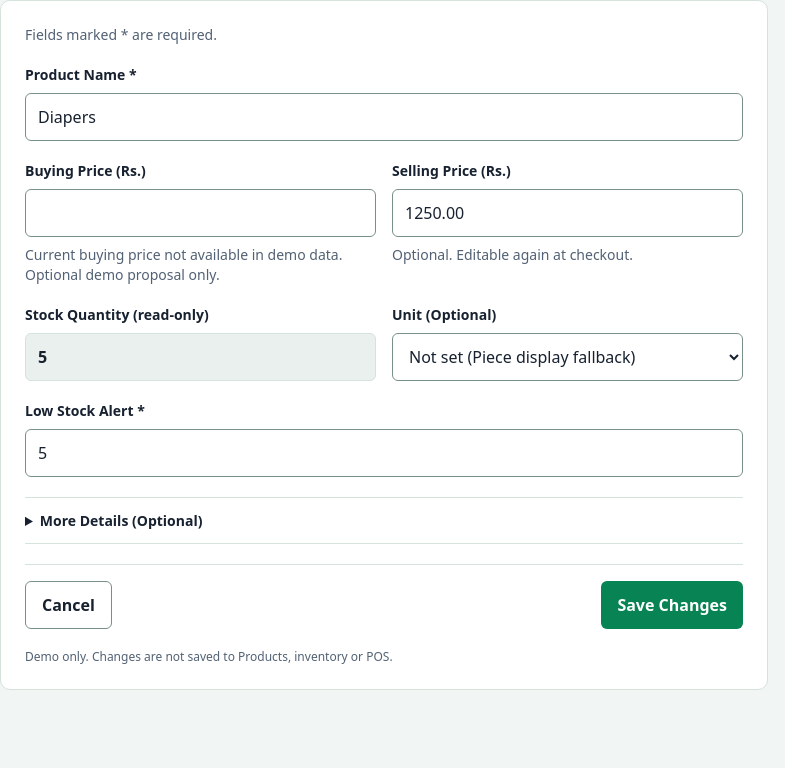
Test: explicit fictional sale-time costs › preserves fixed costs/profit when Admin previews a different current cost and suggested price
Type "900.00" into the field labelled "Buying Price (Rs.)" at [200, 213], box [25,189,376,237]
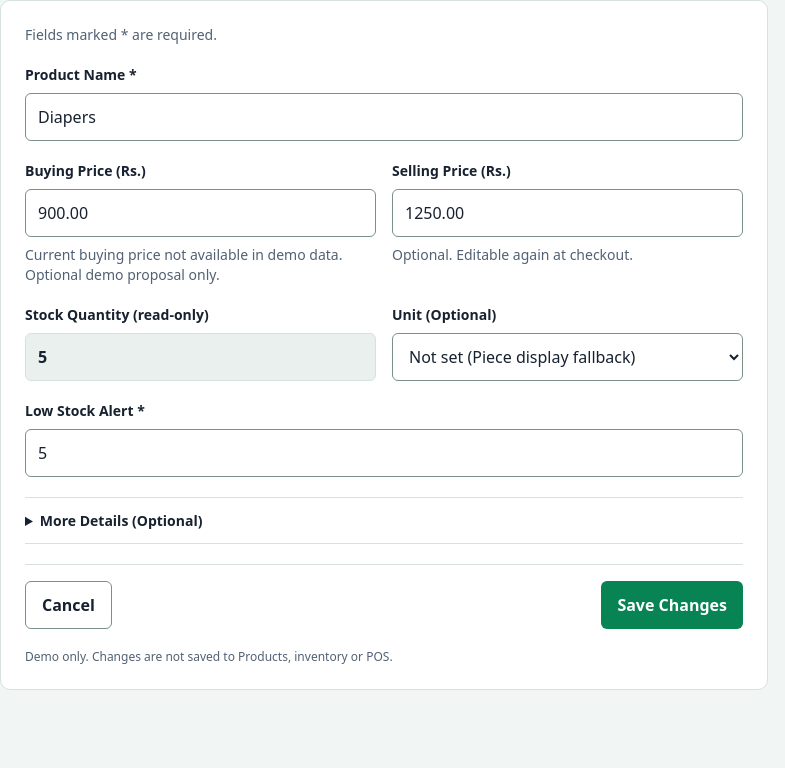
Replace the text in the field labelled "Selling Price (Rs.)" with "1600.00" at [568, 213], box [392,189,743,237]
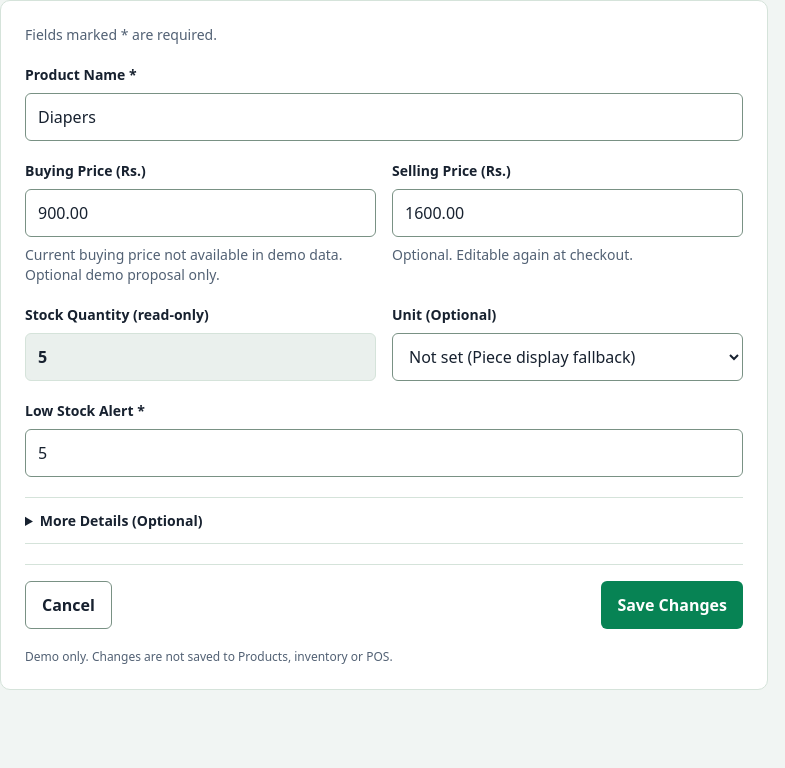
Submit the form
(page scrolled)
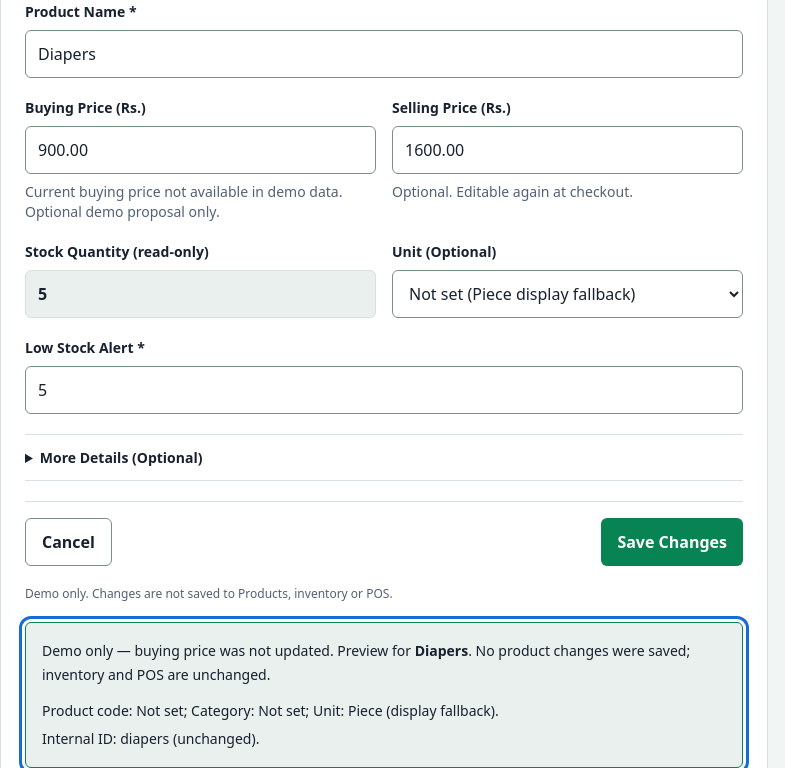
Expected: the message shows "buying price was not updated", [42,641,334,660]
